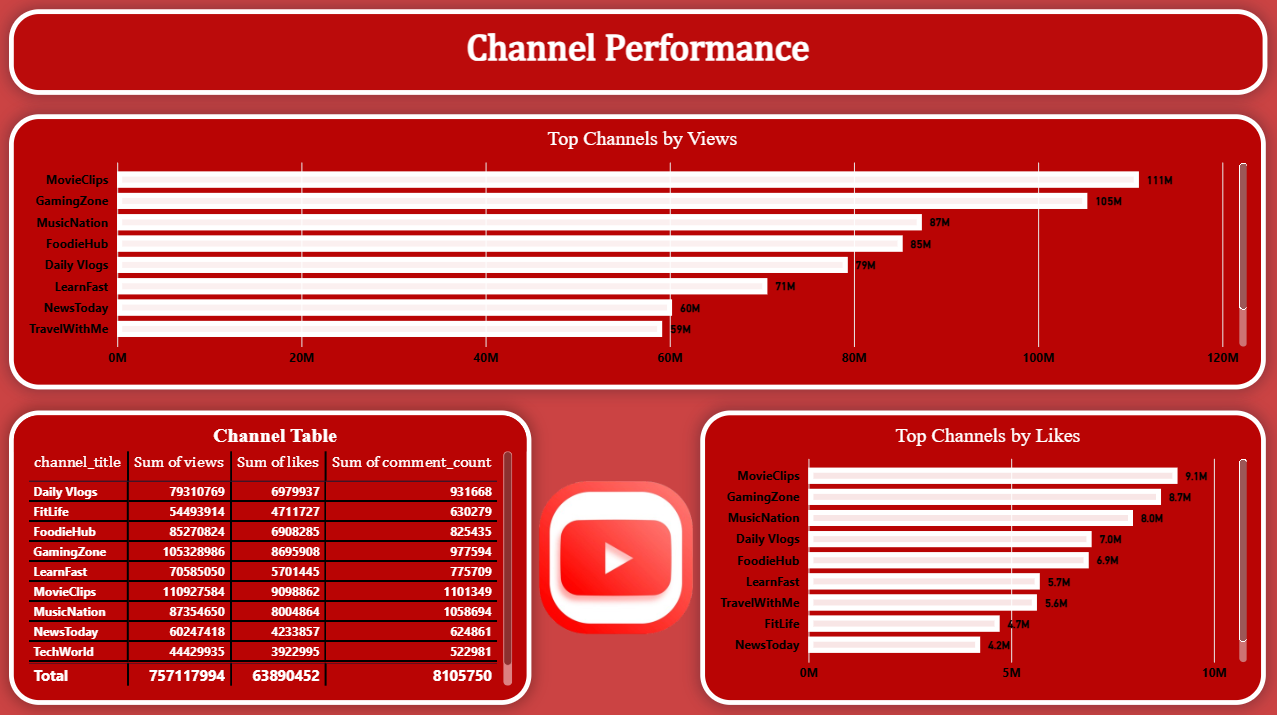

Layout of this report page (visuals, bound fields, positions):
{"tool":"powerbi","page":{"name":"Page 3","canvas":[1280,720],"ordinal":2},"visuals":[{"type":"clusteredBarChart","title":"Top Channels by Views","fields":{"Category":["youtube_trending_clean_powerbi.channel_title"],"Y":["Sum(youtube_trending_clean_powerbi.views)"]},"box":[9.7,115.8,1257.1,275.1],"z":0},{"type":"clusteredBarChart","title":"Top Channels by Likes","fields":{"Category":["youtube_trending_clean_powerbi.channel_title"],"Y":["Sum(youtube_trending_clean_powerbi.likes)"]},"box":[700.9,412.6,565.8,294.4],"z":1000},{"type":"tableEx","title":"Channel Table","fields":{"Values":["youtube_trending_clean_powerbi.channel_title","Sum(youtube_trending_clean_powerbi.views)","Sum(youtube_trending_clean_powerbi.likes)","Sum(youtube_trending_clean_powerbi.comment_count)"]},"box":[9.7,412.6,522.4,294.4],"z":2000},{"type":"textbox","box":[9.7,10.9,1258.3,85.7],"z":3000},{"type":"image","box":[532,412.6,168.9,294.4],"z":4000}]}

Visuals, with their boxes in screenshot pixels (x1, y1, x2, y2), scaled from the page's 1280x720 canvas onto the 1277x715 screenshot:
"Top Channels by Views" clusteredBarChart: (10,115,1264,388)
"Top Channels by Likes" clusteredBarChart: (699,410,1264,702)
"Channel Table" tableEx: (10,410,531,702)
textbox: (10,11,1265,96)
image: (531,410,699,702)
